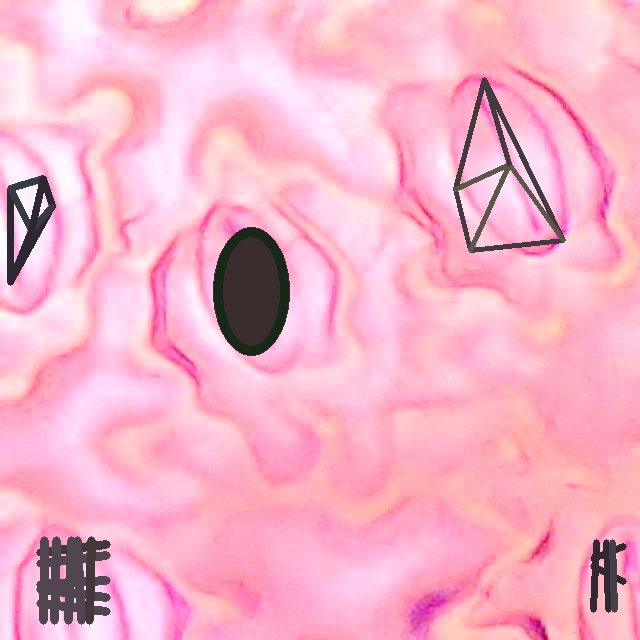close: (8, 175, 54, 285)
open: (453, 77, 565, 252), (214, 227, 288, 355), (36, 536, 109, 624), (590, 539, 626, 612)
